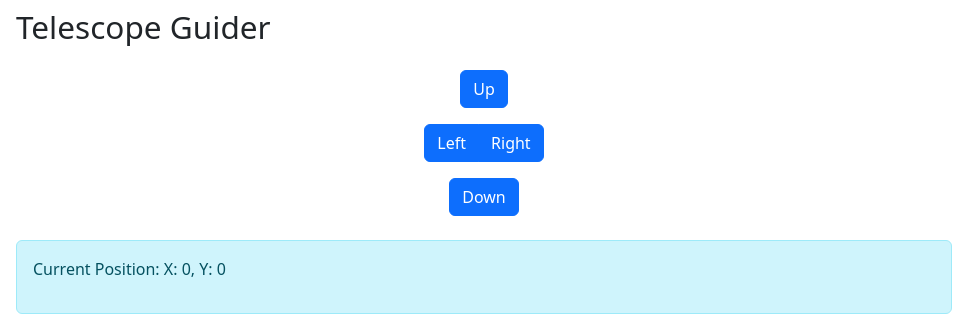
Test: Guider Component › moves telescope left
This screenshot has width=969, height=331.
Click the button "Left": click(452, 143) [424, 124, 479, 162]
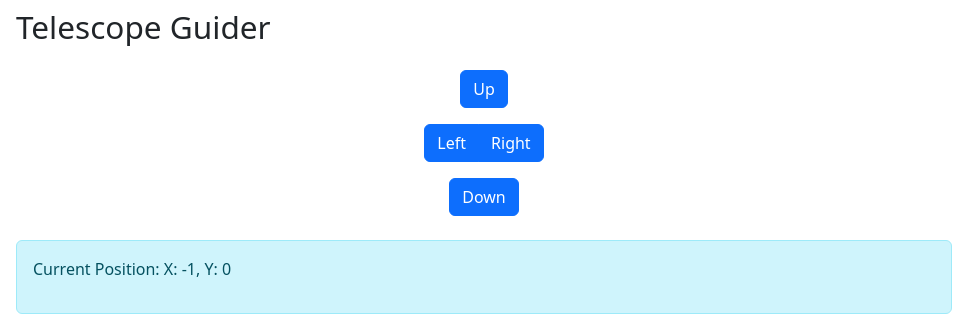
Check: the text "Current Position: X: -1, Y: 0" is shown, box [33, 258, 231, 280]
